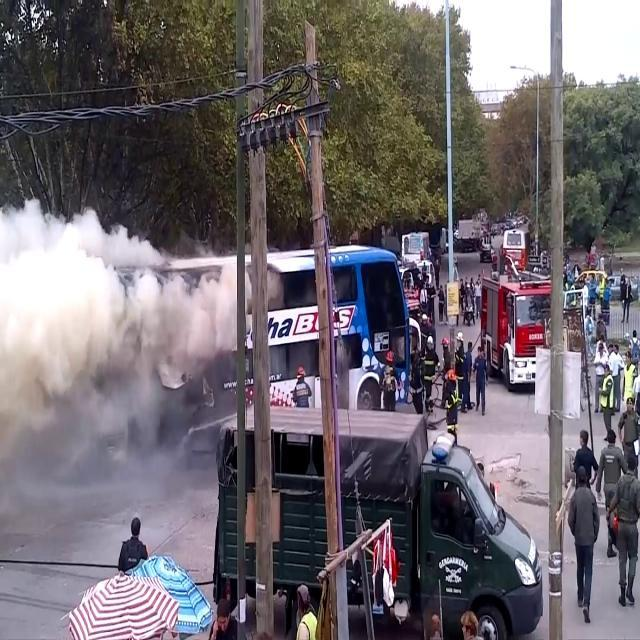Smoke: (0, 194, 232, 561)
